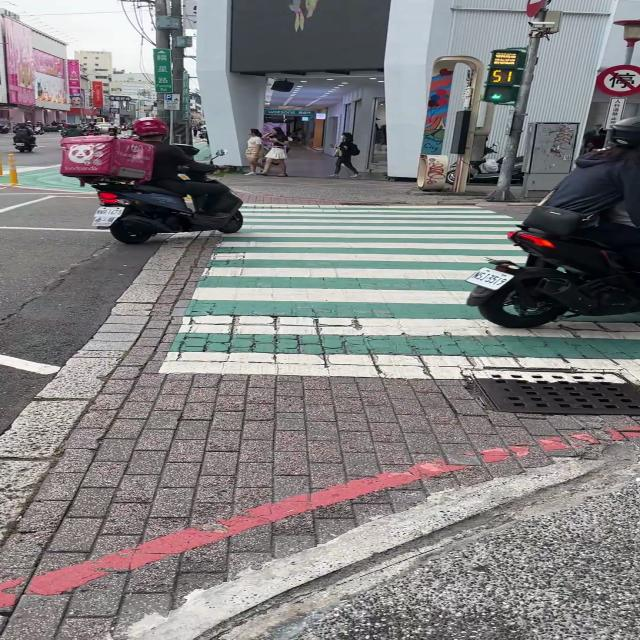crosswalk: (148, 202, 640, 386)
motocycle: (468, 226, 640, 328), (93, 181, 243, 244)
pedestrian: (329, 132, 360, 177), (262, 128, 289, 176), (245, 129, 262, 174)
